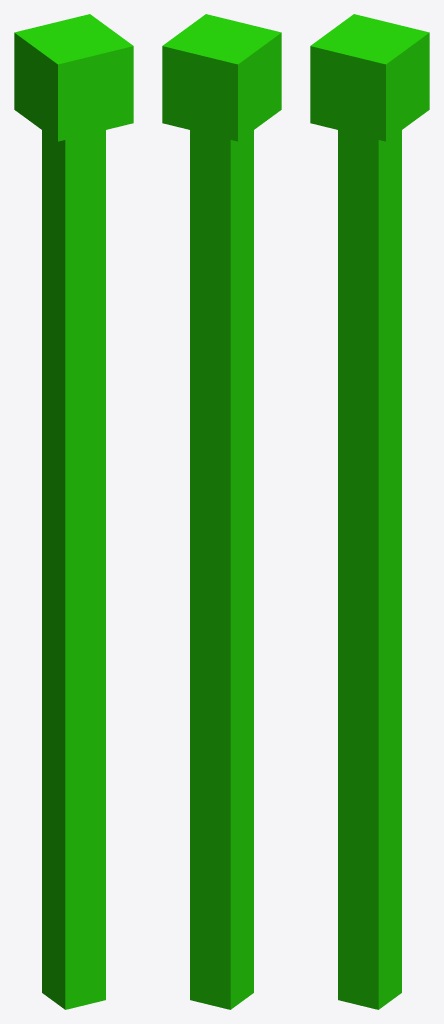
3 views of the same model, side by side, from view 1: azimuth 30°, elevation 25°; view 2: azimuth 150°, elevation 25°; view 3: azimuth 330°, elevation 25° (orthographic).
Visible parts, largest first — view 1: Cube.005; view 2: Cube.005; view 3: Cube.005.
Part boxes in pixels (x1=…): Cube.005: x1=14, y1=14, x2=133, y2=1009; Cube.005: x1=162, y1=14, x2=281, y2=1009; Cube.005: x1=310, y1=14, x2=429, y2=1009.
Size of the model in its own units: 0.1848 by 2.23 by 0.1848.
